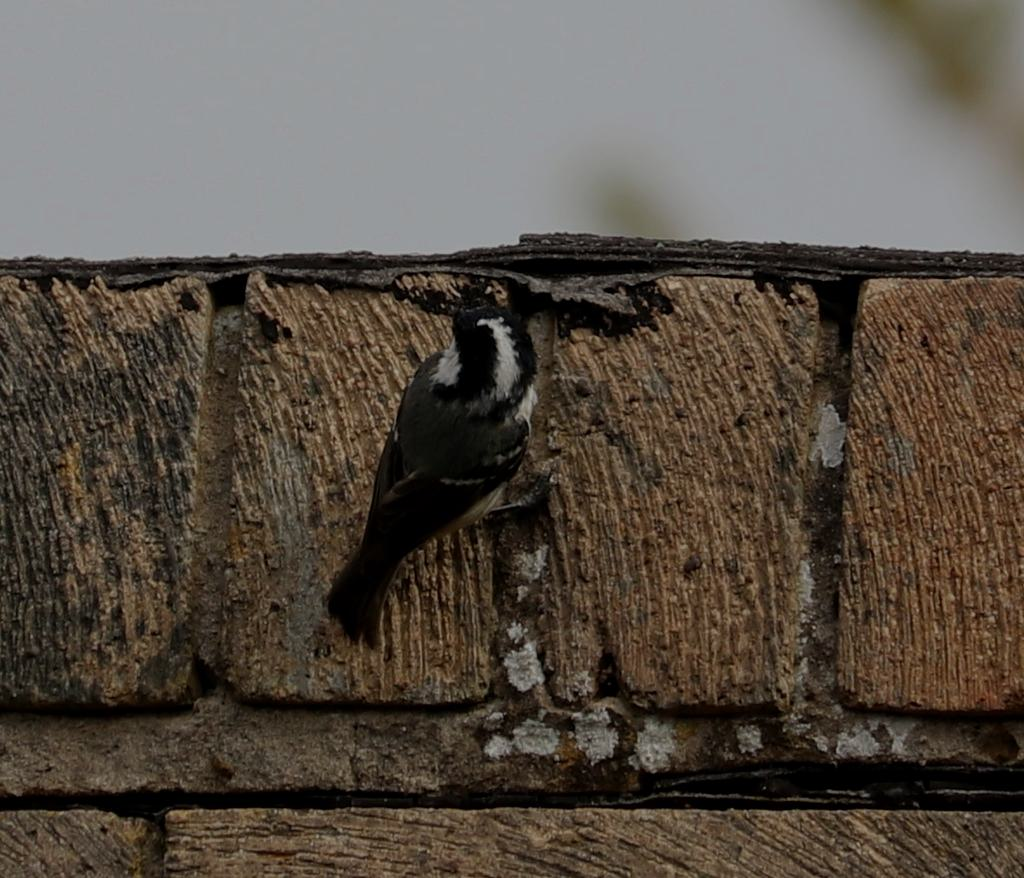PeriparusAter: (322, 302, 554, 651)
